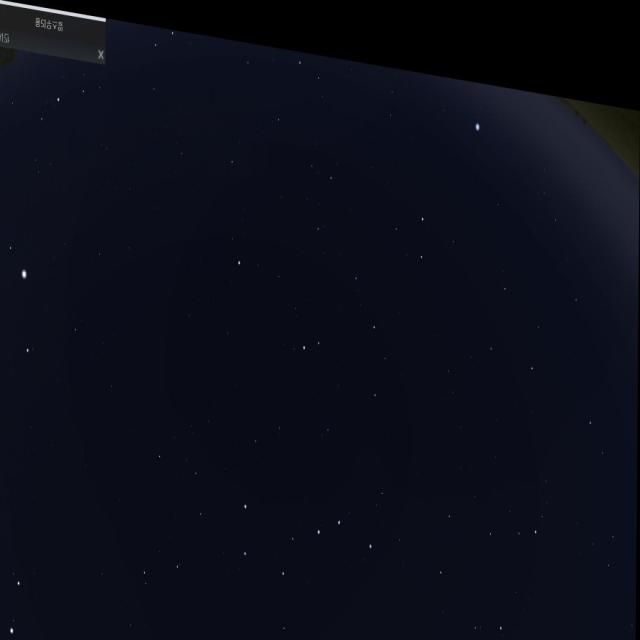ursa_major: (242, 470, 381, 586)
